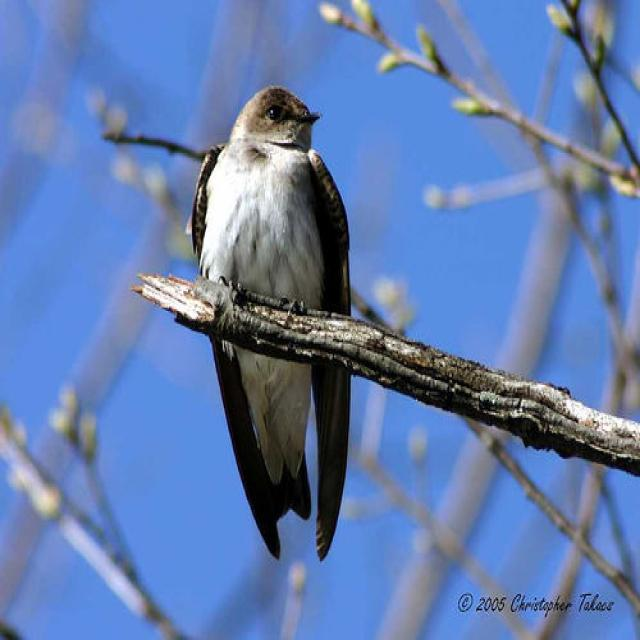bird: (191, 85, 355, 564)
